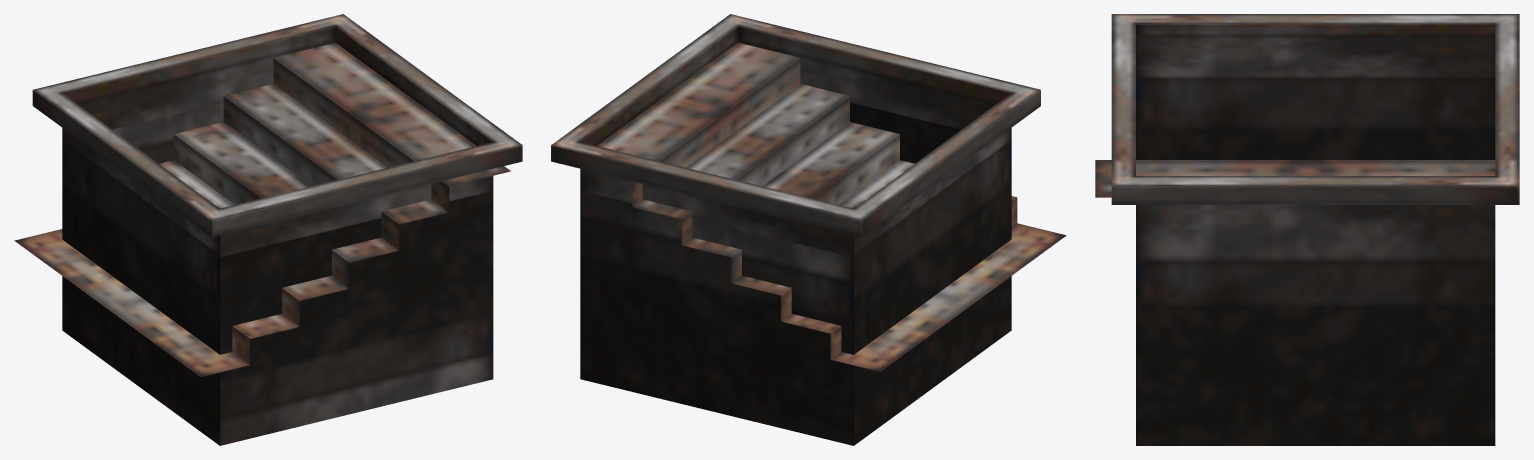
The model's file is Poly_SF_Outside_B_Stairs_Down_02_Left.obj.
The picture shows the model from 3 angles, left to right: view 1: azimuth 30°, elevation 25°; view 2: azimuth 150°, elevation 25°; view 3: azimuth 270°, elevation 25°; orthographic projection. The views are drawn at different scales.
Visible parts, largest first — view 1: Cube, Cube.001; view 2: Cube, Cube.001; view 3: Cube, Cube.001.
Part boxes in pixels (x1,y1,x2,y2): Cube: (32, 14, 522, 445); Cube.001: (14, 42, 510, 376); Cube: (551, 14, 1040, 445); Cube.001: (597, 42, 1066, 371); Cube: (1111, 14, 1519, 445); Cube.001: (1095, 160, 1519, 197).
Size of the model in its own units: 1.06 by 0.73 by 1.04.
Materials: 1 (1 with a texture image).
